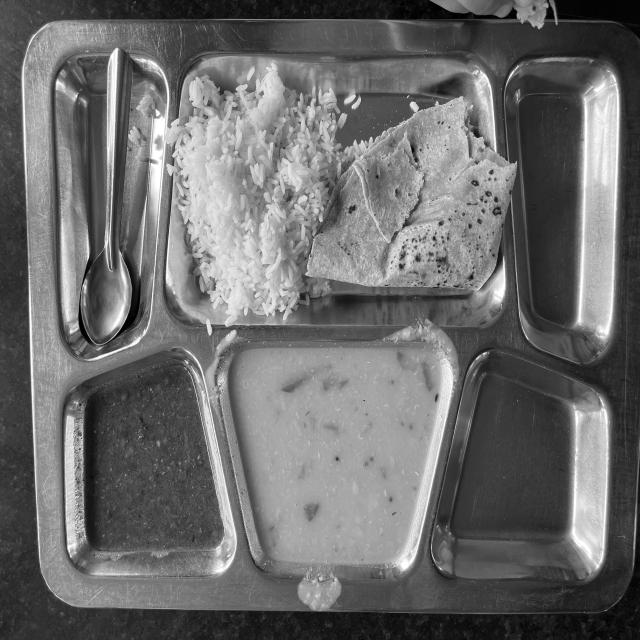70.10- Food Left: (35, 36, 617, 602)
